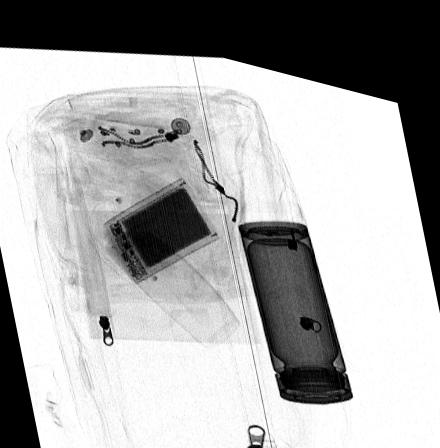Powerbank: (100, 166, 220, 276)
